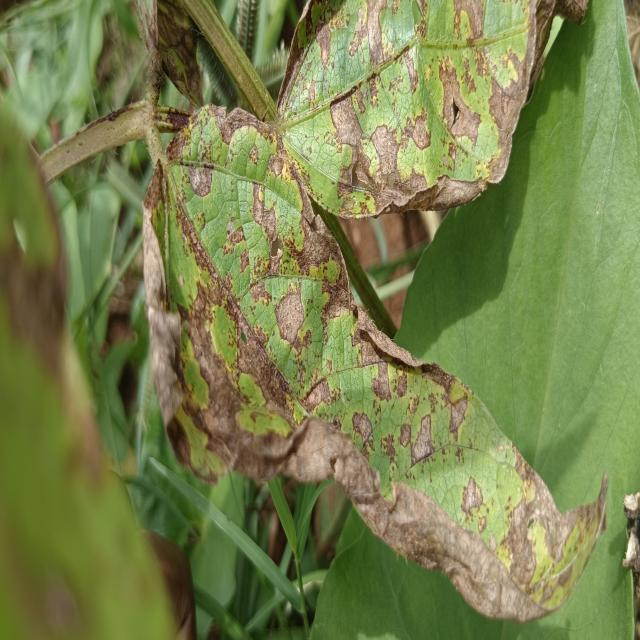Black gram_leaf spot: (140, 0, 612, 629), (0, 89, 175, 640)
